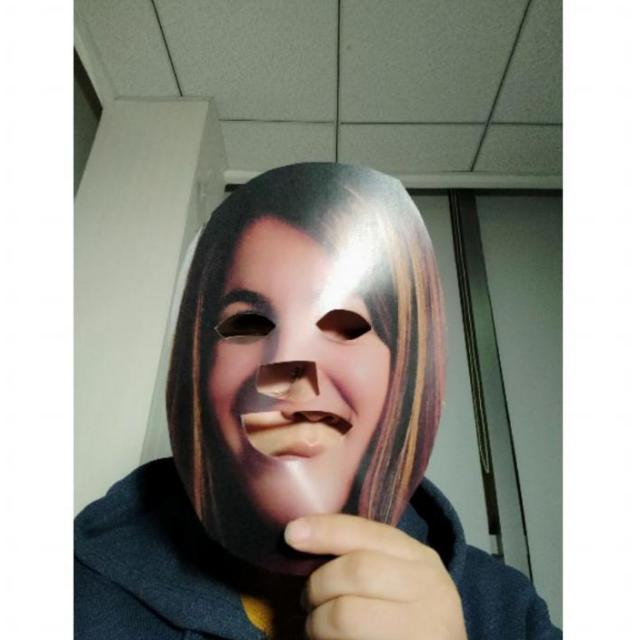mask: (161, 159, 450, 577)
